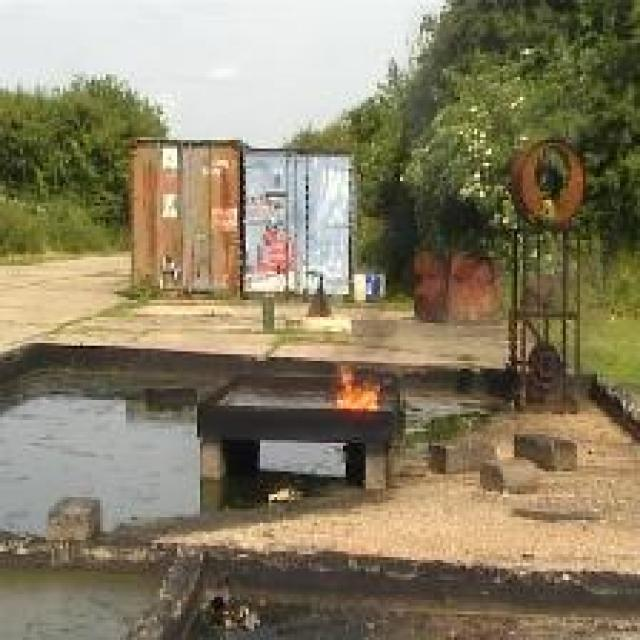Fire: (336, 364, 382, 410)
